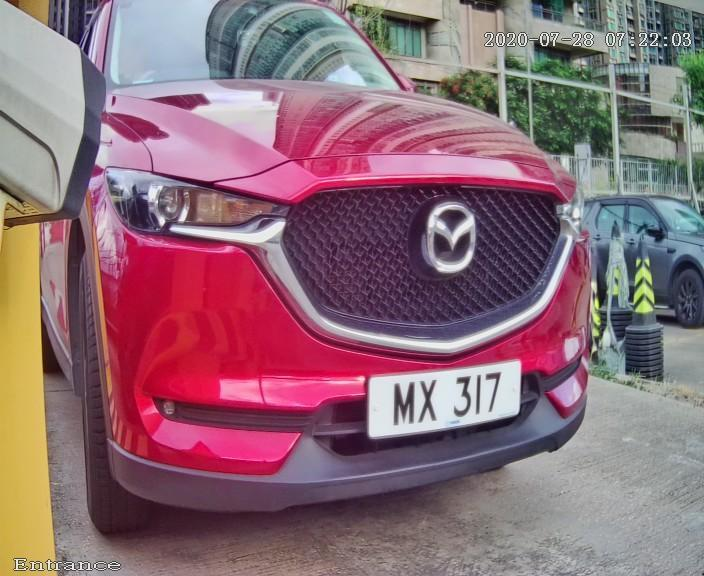privatecar: (42, 1, 601, 510)
